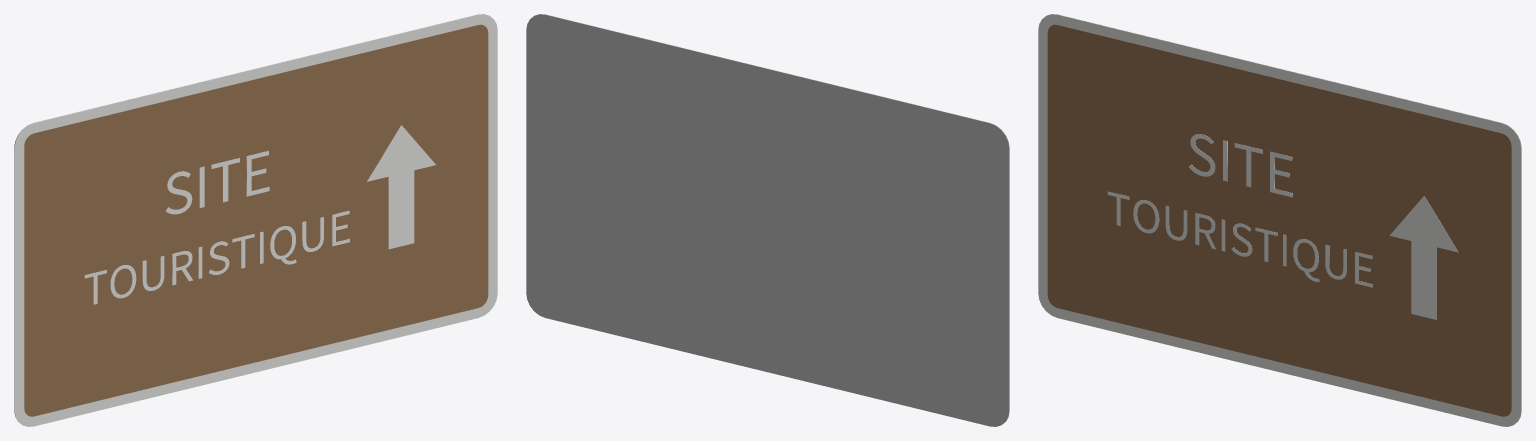
The picture shows the model from 3 angles, left to right: view 1: azimuth 30°, elevation 25°; view 2: azimuth 150°, elevation 25°; view 3: azimuth 330°, elevation 25°; orthographic projection.
Visible parts, largest first — view 1: H33_r01, H33_r00, H33_p04, H33_txt03, H33_txt02, H33_dos; view 2: H33_dos; view 3: H33_r01, H33_r00, H33_p04, H33_txt03, H33_txt02, H33_dos.
Part boxes in pixels (box(x1,y1,x2,y2)): H33_r01: box(24, 24, 488, 416); H33_r00: box(14, 14, 497, 426); H33_p04: box(367, 125, 435, 249); H33_txt03: box(84, 210, 349, 304); H33_txt02: box(166, 151, 269, 214); H33_dos: box(14, 14, 487, 420); H33_dos: box(526, 14, 1009, 426); H33_r01: box(1047, 24, 1511, 416); H33_r00: box(1038, 14, 1521, 426); H33_p04: box(1389, 196, 1458, 319); H33_txt03: box(1107, 191, 1372, 287); H33_txt02: box(1189, 134, 1292, 197); H33_dos: box(1048, 14, 1521, 420).
Size of the model in its own units: 1 by 0.6 by 0.0033.
